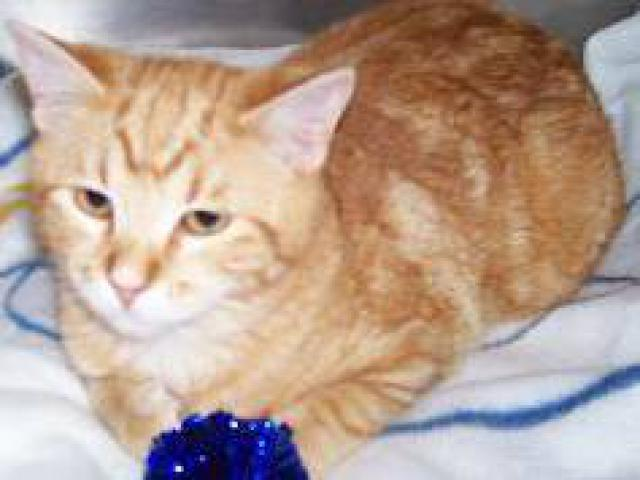cat: (17, 10, 619, 471)
